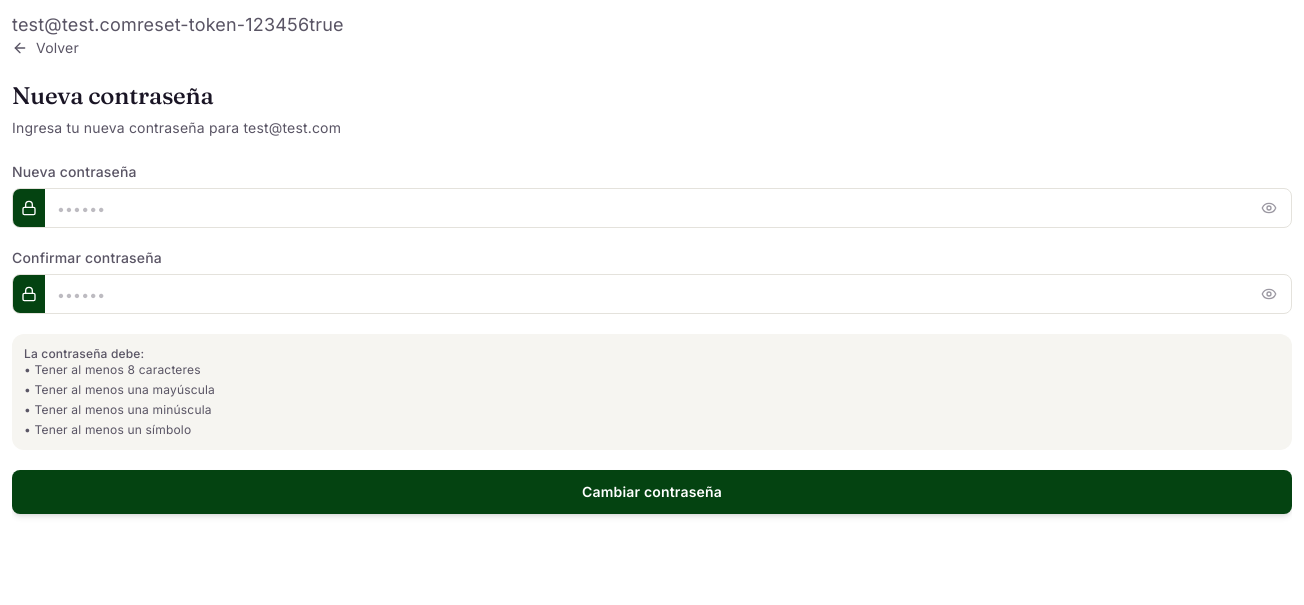
ResetPasswordPage › shows the API message when reset fails
Step 1. Type "Password123!" into the password field with placeholder "••••••" → (651, 208), box [45, 189, 1257, 227]
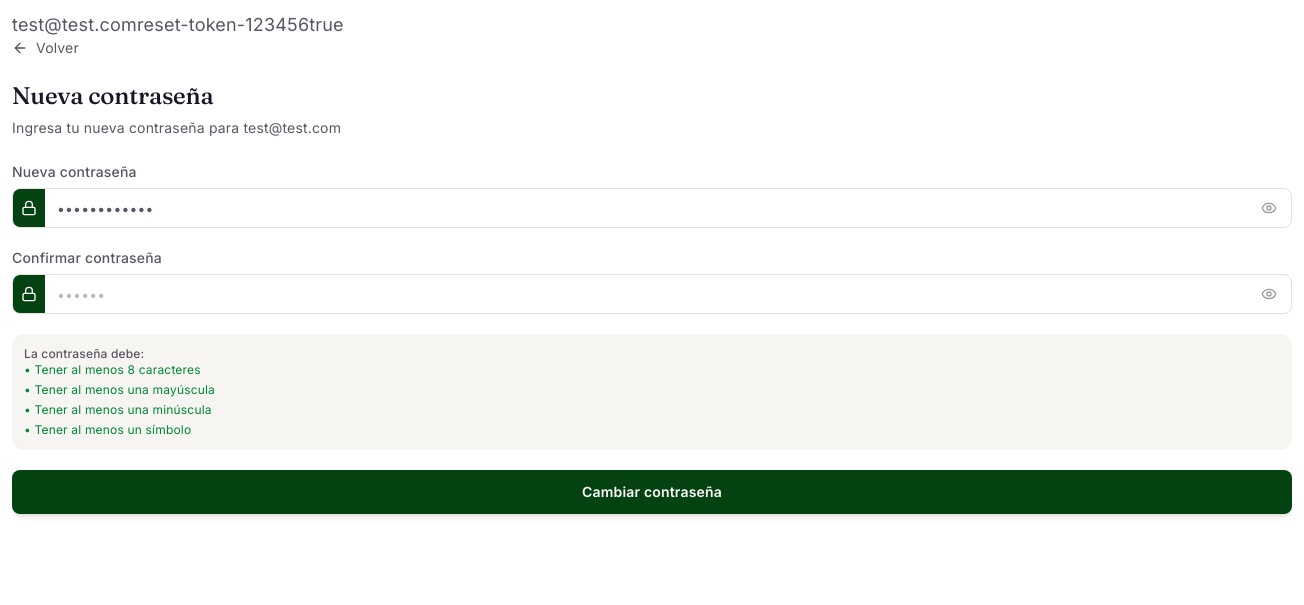
Step 2. Type "Password123!" into the password field with placeholder "••••••" → (651, 294), box [45, 275, 1257, 313]
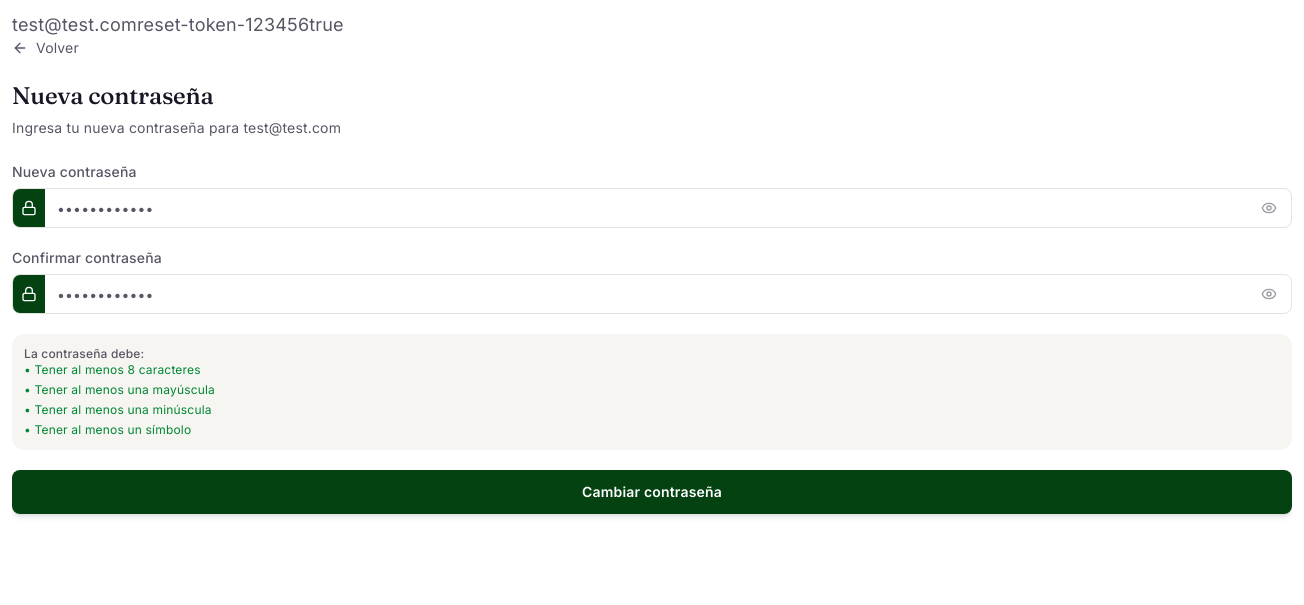
Step 3. Click the button "Cambiar contraseña" → click(652, 492), box [12, 470, 1292, 514]
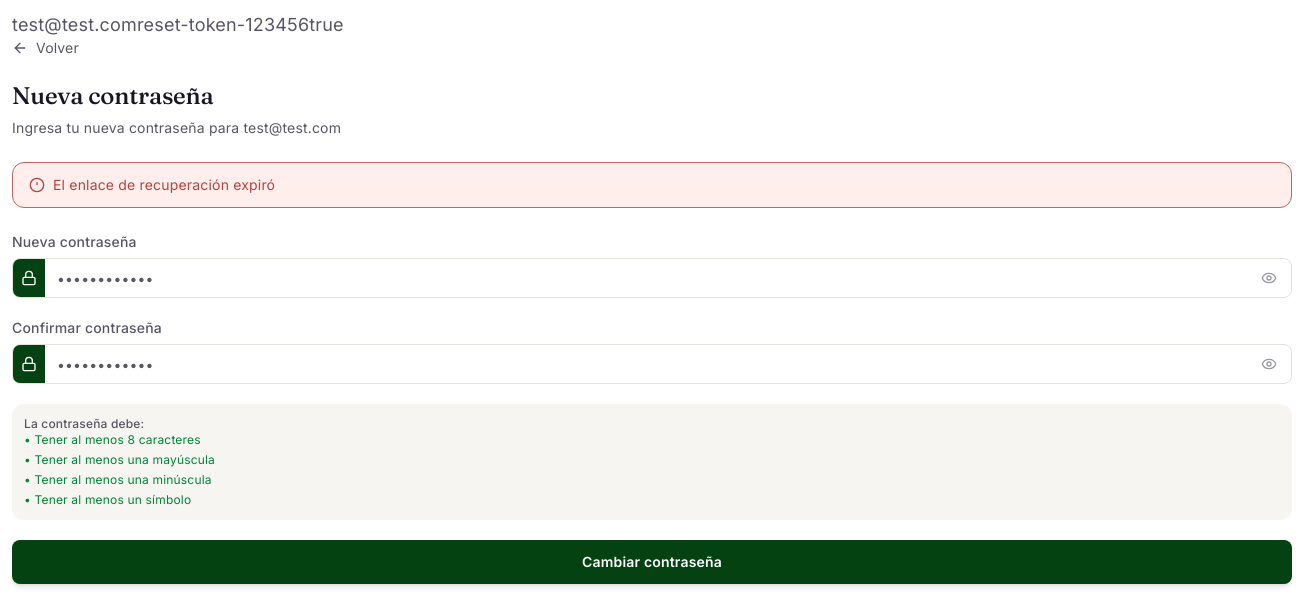
Expected: the text "El enlace de recuperación expiró" is shown, [12, 162, 1292, 208]
